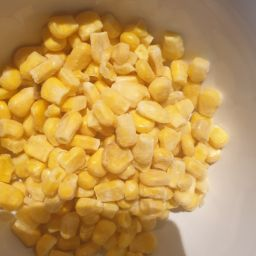Corn Kernel: (14, 111, 217, 256), (32, 34, 172, 201), (121, 29, 241, 219), (2, 46, 92, 256), (24, 8, 146, 114)
